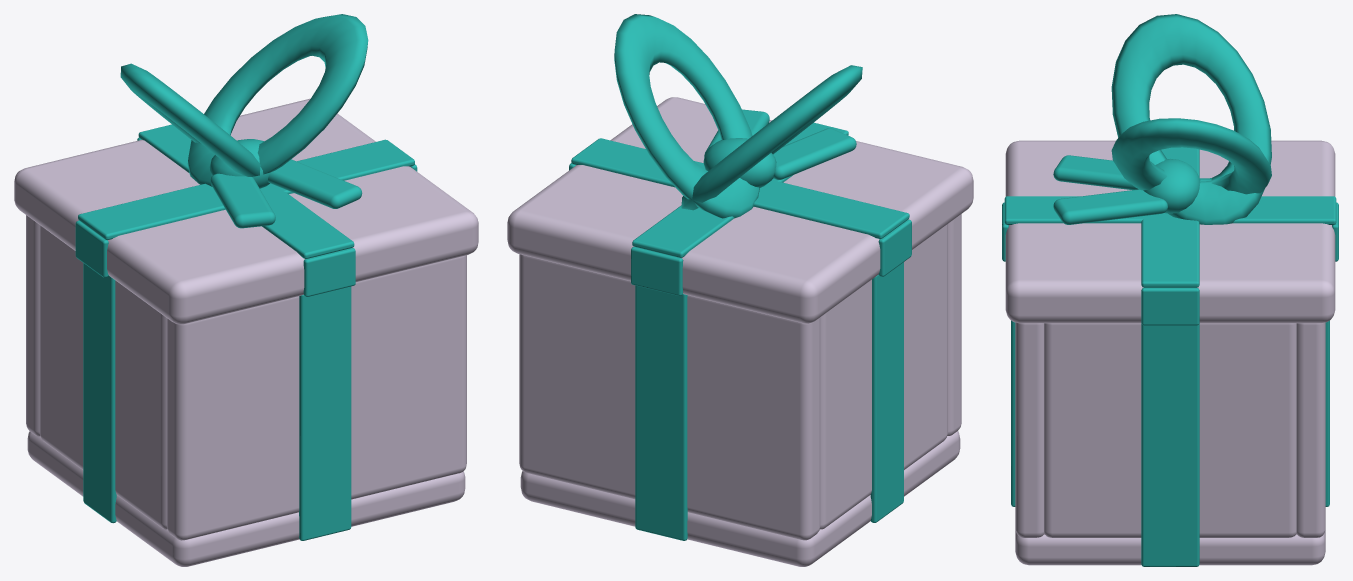
Rendered from gift-aurora-2.glb.
3 views of the same model, side by side, from view 1: azimuth 30°, elevation 25°; view 2: azimuth 150°, elevation 25°; view 3: azimuth 270°, elevation 25° (orthographic).
Visible parts, largest first — view 1: Gift_Body, Gift_Lid, Gift_Bow_Loop_R, Gift_Bow, Gift_Bow_Loop_L; view 2: Gift_Body, Gift_Lid, Gift_Bow_Loop_R, Gift_Bow_Loop_L, Gift_Bow; view 3: Gift_Body, Gift_Lid, Gift_Bow_Loop_L, Gift_Bow_Loop_R, Gift_Bow.
Boxes of the visible parts, x1,y1,x2,y2 form: Gift_Body: (26,215,466,566); Gift_Lid: (14,98,478,324); Gift_Bow_Loop_R: (187,14,368,186); Gift_Bow: (209,139,362,228); Gift_Bow_Loop_L: (120,63,260,176); Gift_Body: (519,214,961,566); Gift_Lid: (507,97,973,323); Gift_Bow_Loop_R: (614,14,759,218); Gift_Bow_Loop_L: (681,65,862,210); Gift_Bow: (703,109,856,188); Gift_Body: (1011,320,1329,566); Gift_Lid: (1002,140,1338,325); Gift_Bow_Loop_L: (1111,14,1271,224); Gift_Bow_Loop_R: (1111,118,1271,194); Gift_Bow: (1053,155,1200,224).
Size of the model in its own units: 0.928 by 1.23 by 0.868.
